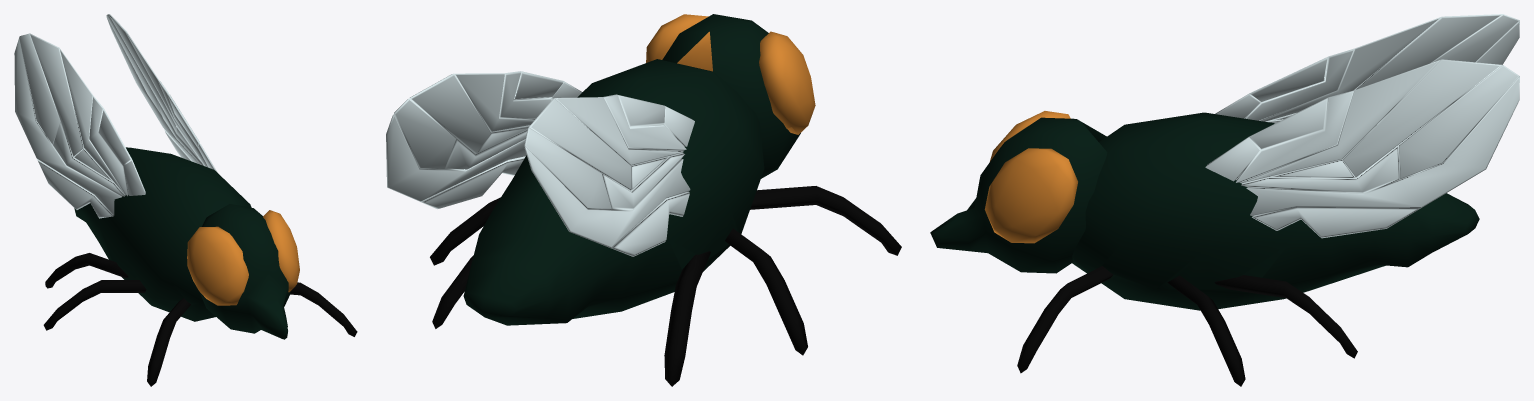
The model's file is NOVELO_FLY.obj.
3 renders of one model, left to right at view 1: azimuth 30°, elevation 25°; view 2: azimuth 150°, elevation 25°; view 3: azimuth 270°, elevation 25°, orthographic. The views are drawn at different scales.
Visible parts, largest first — view 1: Symmetry.1; view 2: Symmetry.1; view 3: Symmetry.1.
Boxes of the visible parts, <box> form: Symmetry.1: <box>14,14,357,386</box>; Symmetry.1: <box>386,14,901,386</box>; Symmetry.1: <box>930,14,1519,386</box>.
Size of the model in its own units: 93.11 by 73.19 by 145.
